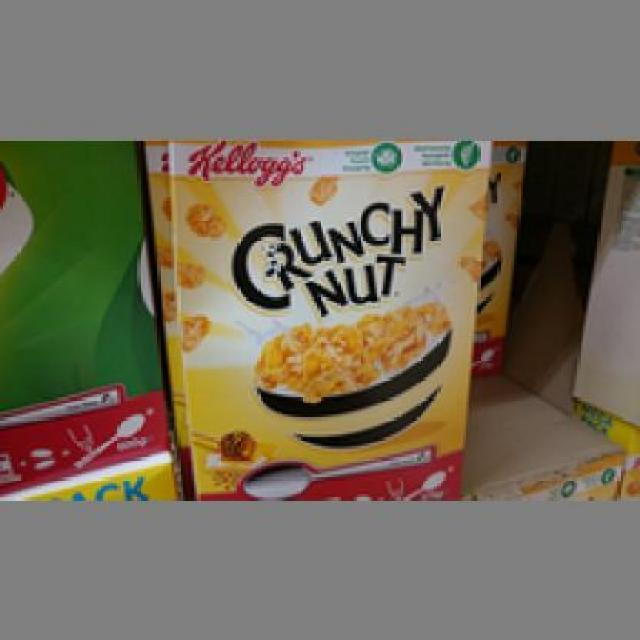Cereal: (165, 137, 486, 494)
